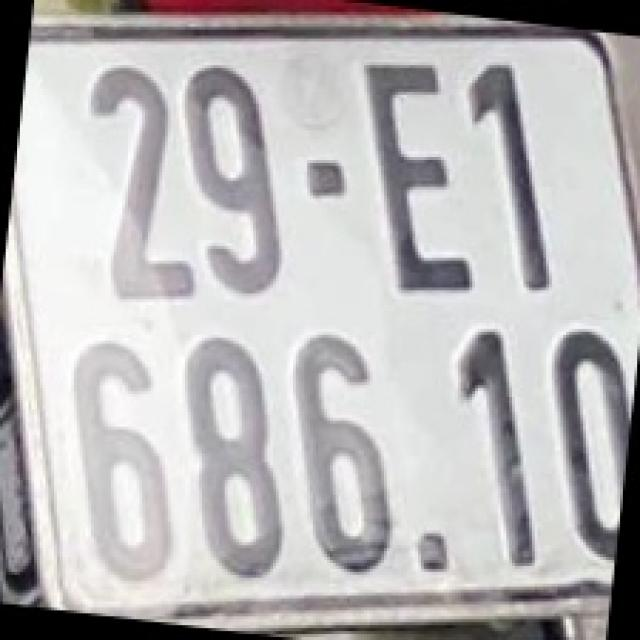0: (552, 326, 637, 560)
1: (467, 56, 563, 294), (452, 323, 544, 569)
2: (82, 59, 196, 308)
6: (66, 335, 176, 584), (290, 326, 398, 575)
8: (185, 332, 284, 581)
9: (182, 62, 287, 296)
E: (358, 56, 478, 300)
